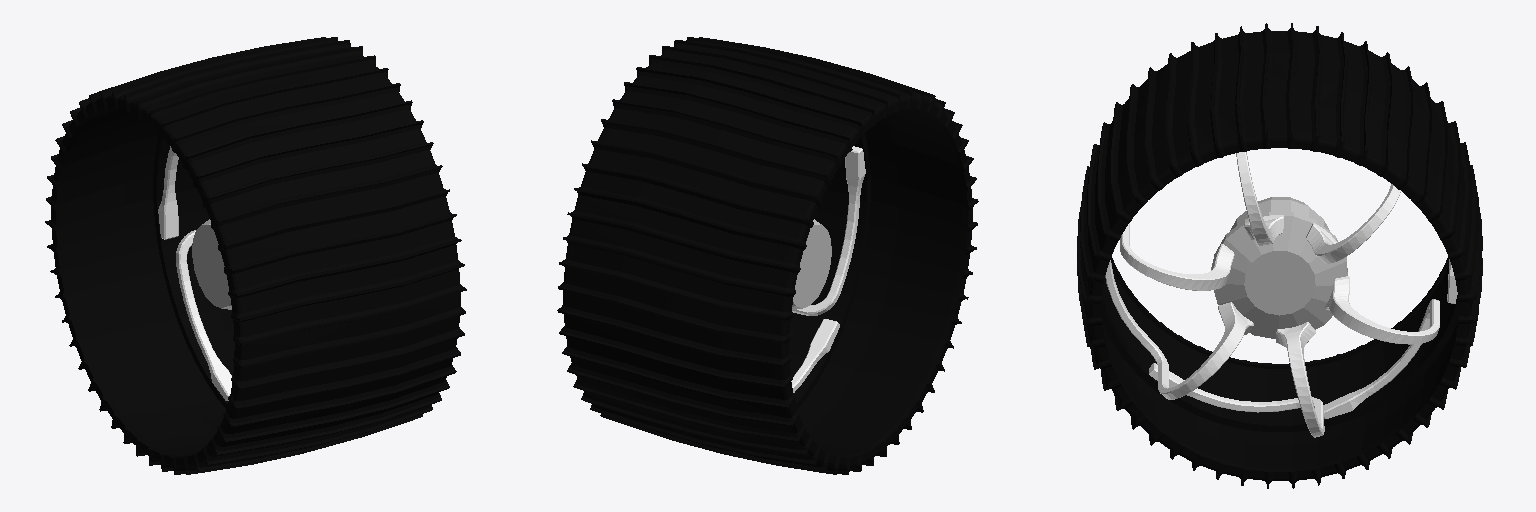
File: wheel.obj
3 views of the same model, side by side, from view 1: azimuth 30°, elevation 25°; view 2: azimuth 150°, elevation 25°; view 3: azimuth 270°, elevation 25° (orthographic).
Parts seen in each view (by area): view 1: Wheels_objs_[number redacted]-101_E-HORIZONTAL_SWINGARM_25223.001; view 2: Wheels_objs_[number redacted]-101_E-HORIZONTAL_SWINGARM_25223.001; view 3: Wheels_objs_[number redacted]-101_E-HORIZONTAL_SWINGARM_25223.001.
Boxes of the visible parts, x1=… form: Wheels_objs_[number redacted]-101_E-HORIZONTAL_SWINGARM_25223.001: x1=45, y1=37, x2=466, y2=474; Wheels_objs_[number redacted]-101_E-HORIZONTAL_SWINGARM_25223.001: x1=557, y1=37, x2=978, y2=474; Wheels_objs_[number redacted]-101_E-HORIZONTAL_SWINGARM_25223.001: x1=1077, y1=23, x2=1482, y2=488.
Bounding box in the file's own units: 0.3356 × 0.5249 × 0.5249.